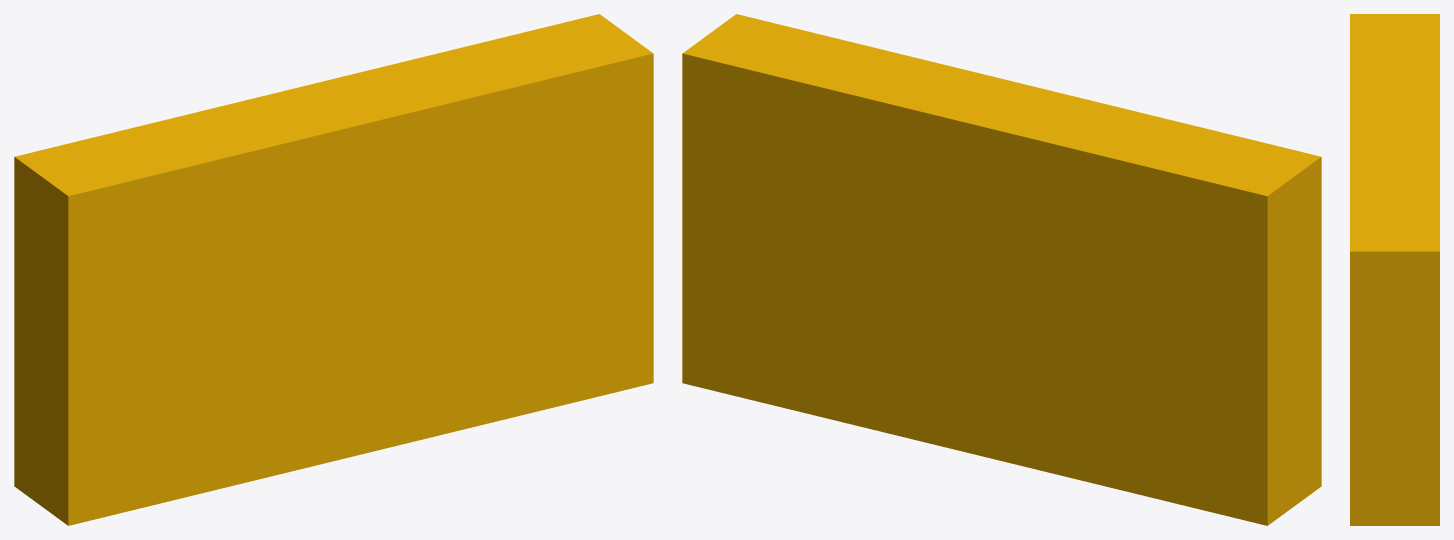
The model's file is exit.fbx.
3 views of the same model, side by side, from view 1: azimuth 30°, elevation 25°; view 2: azimuth 150°, elevation 25°; view 3: azimuth 270°, elevation 25° (orthographic). The views are drawn at different scales.
Parts seen in each view (by area): view 1: Puerta salida; view 2: Puerta salida; view 3: Puerta salida.
Part boxes in pixels (x1,y1,x2,y2): Puerta salida: [14, 14, 653, 525]; Puerta salida: [682, 14, 1321, 525]; Puerta salida: [1350, 14, 1439, 525].
Size of the model in its own units: 99.58 by 53.62 by 15.91.
